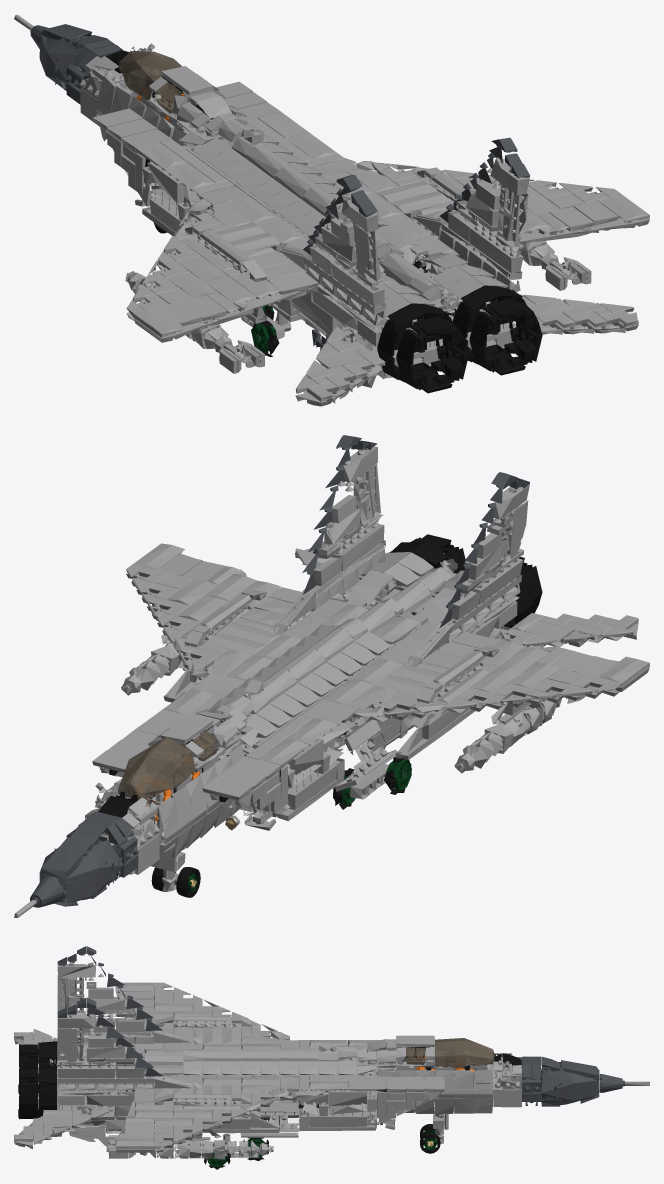
Rendered from mig31-lego.glb.
3 views of the same model, one above another, from view 1: azimuth 30°, elevation 25°; view 2: azimuth 150°, elevation 25°; view 3: azimuth 270°, elevation 25° (orthographic). The views are drawn at different scales.
Parts seen in each view (by area): view 1: MiG-31 Foxhound (LEGO); view 2: MiG-31 Foxhound (LEGO); view 3: MiG-31 Foxhound (LEGO).
Part boxes in pixels (x1,y1,x2,y2): MiG-31 Foxhound (LEGO): [14, 14, 649, 406]; MiG-31 Foxhound (LEGO): [14, 435, 649, 917]; MiG-31 Foxhound (LEGO): [14, 946, 649, 1169].
Size of the model in its own units: 13.81 by 6.88 by 22.69.
15 materials, 5 textured.
